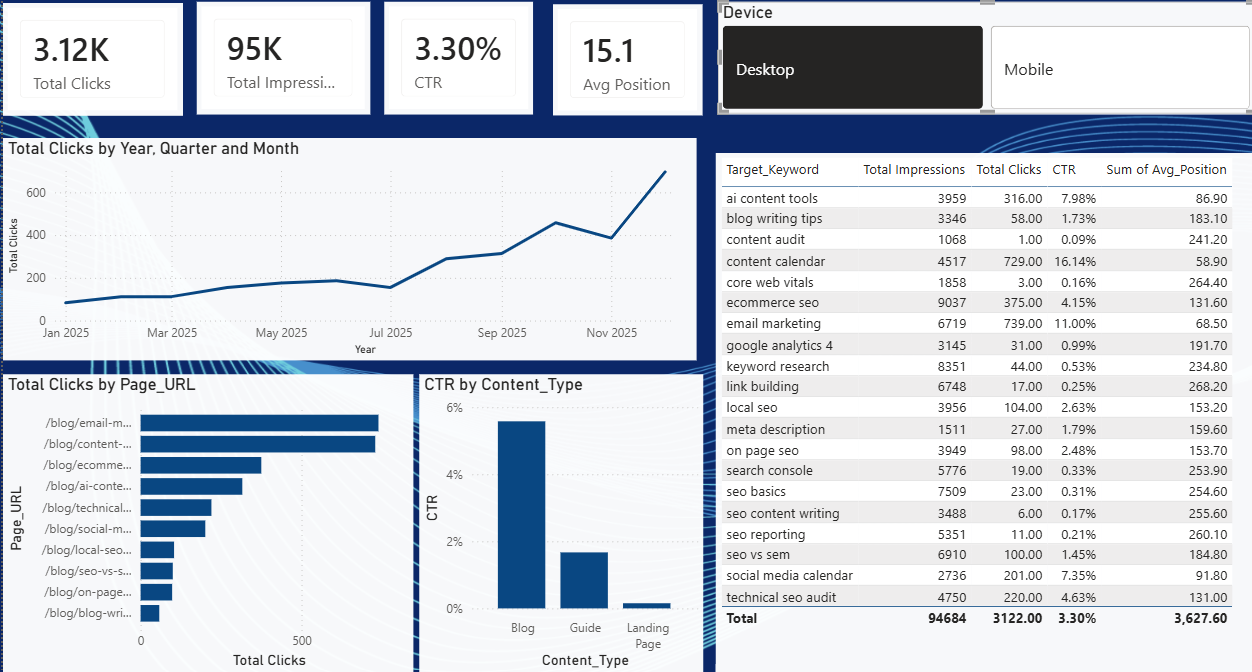

The page's visual inventory and layout, read from the dashboard file:
{"tool":"powerbi","page":{"name":"Page 1","canvas":[1280,720],"ordinal":0},"visuals":[{"type":"cardVisual","fields":{"Data":["seo_performance.Total Clicks"]},"box":[0,35.5,179.8,112.5],"z":0},{"type":"cardVisual","fields":{"Data":["seo_performance.Total Impressions"]},"box":[193.2,34.2,173.6,112.5],"z":1000},{"type":"cardVisual","fields":{"Data":["seo_performance.CTR"]},"box":[381.5,34.2,149.2,112.5],"z":2000},{"type":"cardVisual","fields":{"Data":["seo_performance.Avg Position"]},"box":[550.3,35.7,149.6,111.1],"z":3000},{"type":"lineChart","fields":{"Category":["seo_performance.Month.Variation.Date Hierarchy.Year","seo_performance.Month.Variation.Date Hierarchy.Quarter","seo_performance.Month.Variation.Date Hierarchy.Month","seo_performance.Month.Variation.Date Hierarchy.Day"],"Y":["seo_performance.Total Clicks"]},"box":[0,170,693.3,222.6],"z":4000},{"type":"advancedSlicerVisual","fields":{"Values":["seo_performance.Device"]},"box":[714.9,34.3,539.3,112.5],"z":5000},{"type":"clusteredBarChart","fields":{"Category":["seo_performance.Page_URL"],"Y":["seo_performance.Total Clicks"]},"box":[0,406.2,410.3,299.1],"z":6000},{"type":"clusteredColumnChart","fields":{"Category":["seo_performance.Content_Type"],"Y":["seo_performance.CTR"]},"box":[415.8,406.2,284,299.1],"z":6001},{"type":"tableEx","fields":{"Values":["seo_performance.Target_Keyword","seo_performance.Total Impressions","seo_performance.Total Clicks","seo_performance.CTR","Sum(seo_performance.Avg_Position)"]},"box":[712.2,185.2,544.8,520.1],"z":6002}]}

Visuals, with their boxes in screenshot pixels (x1, y1, x2, y2):
cardVisual - seo_performance.Total Clicks: Rect(7, 3, 184, 114)
cardVisual - seo_performance.Total Impressions: Rect(198, 1, 369, 112)
cardVisual - seo_performance.CTR: Rect(384, 1, 531, 112)
cardVisual - seo_performance.Avg Position: Rect(551, 3, 699, 113)
lineChart - seo_performance.Month.Variation.Date Hierarchy.Year x seo_performance.Month.Variation.Date Hierarchy.Quarter: Rect(7, 135, 692, 356)
advancedSlicerVisual - seo_performance.Device: Rect(713, 1, 1247, 113)
clusteredBarChart - seo_performance.Page_URL x seo_performance.Total Clicks: Rect(7, 369, 412, 665)
clusteredColumnChart - seo_performance.Content_Type x seo_performance.CTR: Rect(418, 369, 698, 665)
tableEx - seo_performance.Target_Keyword x seo_performance.Total Impressions: Rect(711, 151, 1249, 665)
